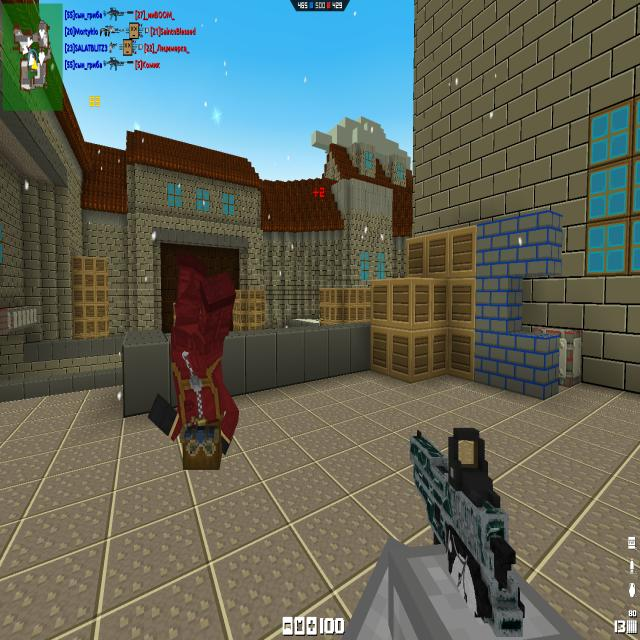player: (157, 252, 237, 465)
